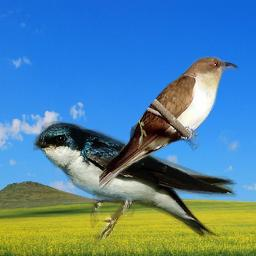Cuckoo: (99, 55, 239, 190)
Swallow: (33, 121, 243, 245)
